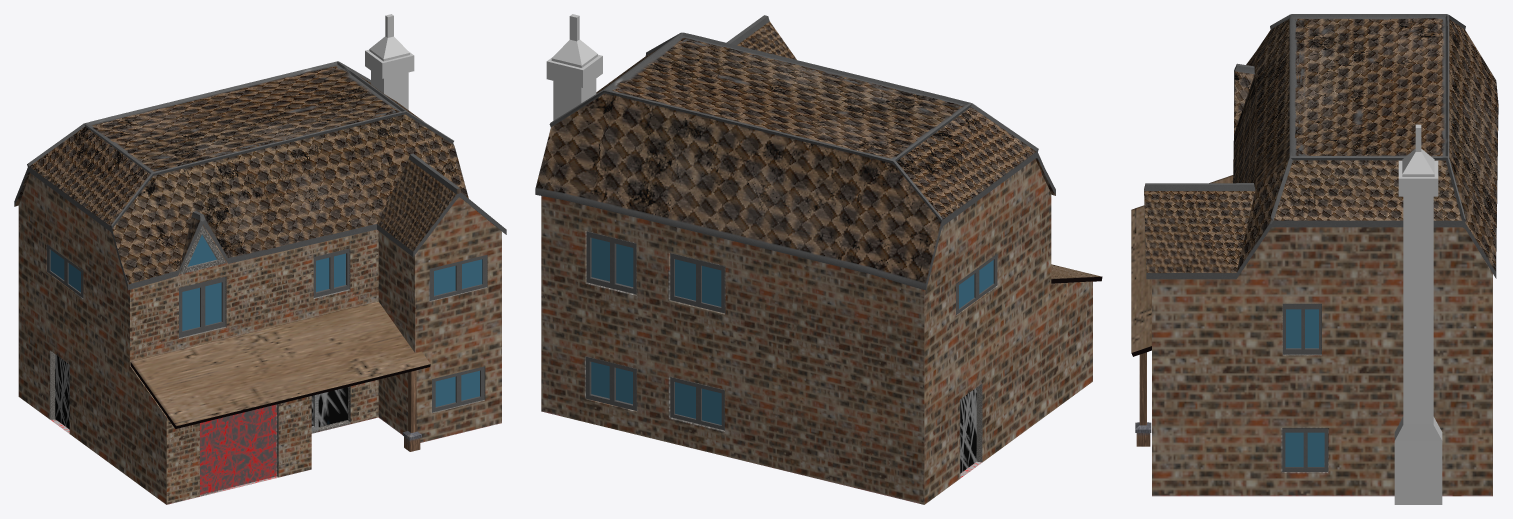
Rendered from house1.fbx.
3 views of the same model, side by side, from view 1: azimuth 30°, elevation 25°; view 2: azimuth 150°, elevation 25°; view 3: azimuth 270°, elevation 25° (orthographic). The views are drawn at different scales.
Visible parts, largest first — view 1: house, Roof, Small_Roof, Chimney, WindowFrame27, WindowFrame24, SmallRoofStand, WindowFrame25, WindowFrame26, WindowFrame28; view 2: house, Roof, Chimney, WindowFrame30, WindowFrame29, WindowFrame31, WindowFrame32, WindowFrame28, Small_Roof; view 3: house, Roof, Chimney, Small_Roof, SmallRoofStand, WindowFrame33, WindowFrame34.
Part boxes in pixels (bbox=[...]): house: bbox=[18, 173, 501, 504]; Roof: bbox=[14, 61, 506, 290]; Small_Roof: bbox=[130, 301, 430, 428]; Chimney: bbox=[365, 14, 414, 109]; WindowFrame27: bbox=[179, 277, 225, 337]; WindowFrame24: bbox=[429, 255, 486, 300]; SmallRoofStand: bbox=[402, 370, 421, 451]; WindowFrame25: bbox=[432, 366, 484, 412]; WindowFrame26: bbox=[313, 248, 349, 297]; WindowFrame28: bbox=[47, 244, 83, 297]; house: bbox=[541, 159, 1092, 504]; Roof: bbox=[535, 15, 1055, 290]; Chimney: bbox=[546, 14, 602, 120]; WindowFrame30: bbox=[586, 231, 636, 294]; WindowFrame29: bbox=[670, 253, 724, 313]; WindowFrame31: bbox=[586, 356, 636, 410]; WindowFrame32: bbox=[670, 377, 724, 430]; WindowFrame28: bbox=[956, 254, 997, 314]; Small_Roof: bbox=[1051, 264, 1102, 283]; house: bbox=[1152, 227, 1492, 496]; Roof: bbox=[1144, 14, 1498, 279]; Chimney: bbox=[1394, 124, 1442, 504]; Small_Roof: bbox=[1131, 175, 1233, 356]; SmallRoofStand: bbox=[1135, 352, 1151, 446]; WindowFrame33: bbox=[1282, 428, 1327, 471]; WindowFrame34: bbox=[1283, 304, 1321, 354].
Size of the model in its own units: 1029 by 885 by 792.
